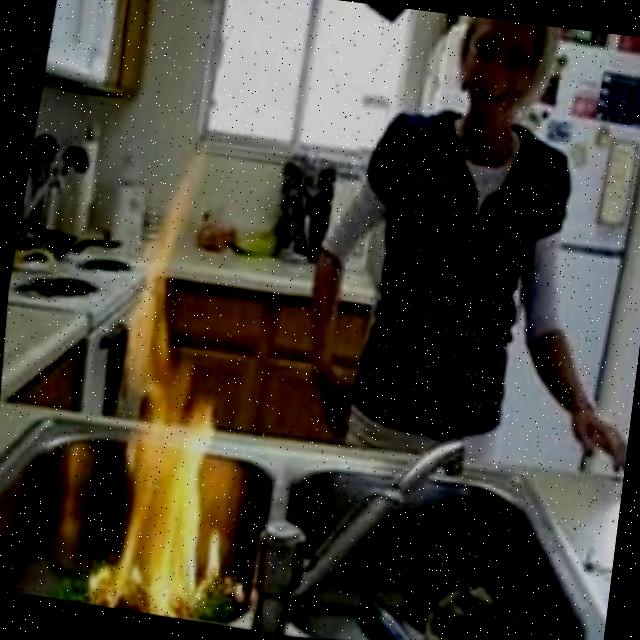fire: (56, 125, 300, 632)
